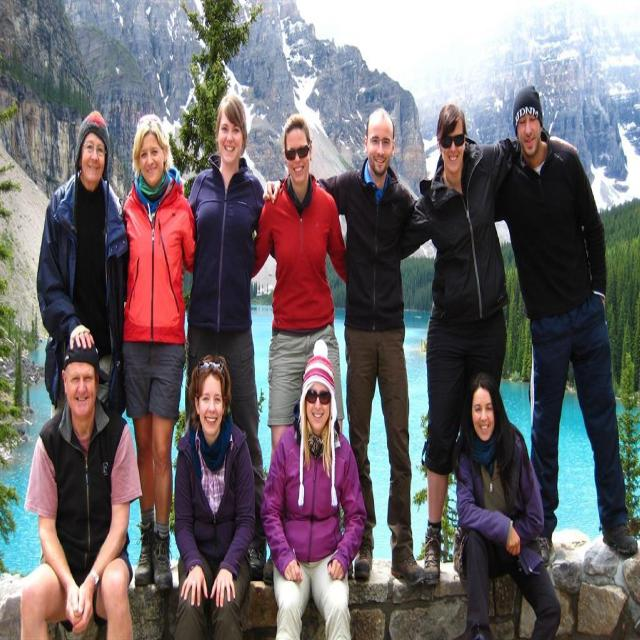body: (350, 99, 580, 594), (262, 105, 432, 588), (493, 83, 639, 566), (183, 90, 276, 584), (16, 332, 143, 639), (118, 111, 196, 594), (258, 337, 369, 639), (34, 106, 130, 423), (453, 368, 565, 639), (171, 352, 256, 640)
